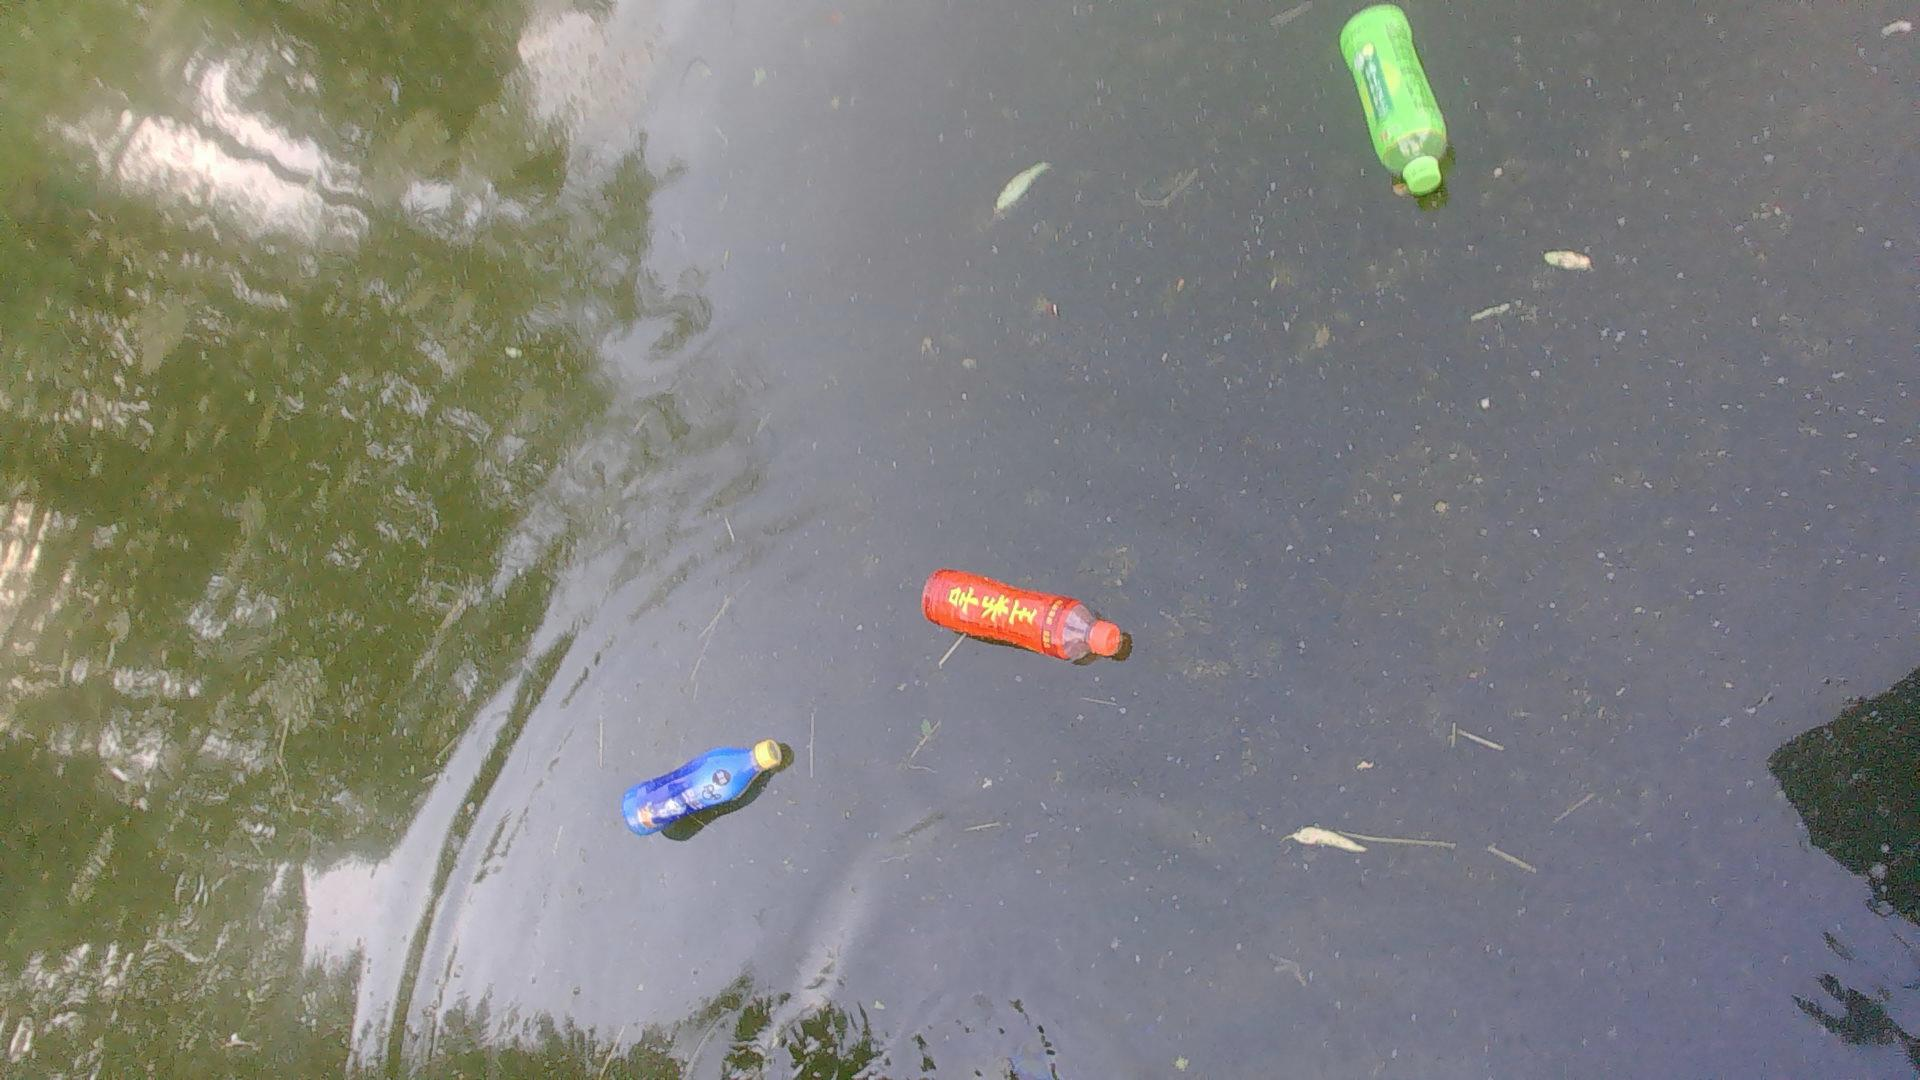Plastic: (1341, 0, 1456, 204), (617, 720, 795, 847), (913, 564, 1135, 661)
